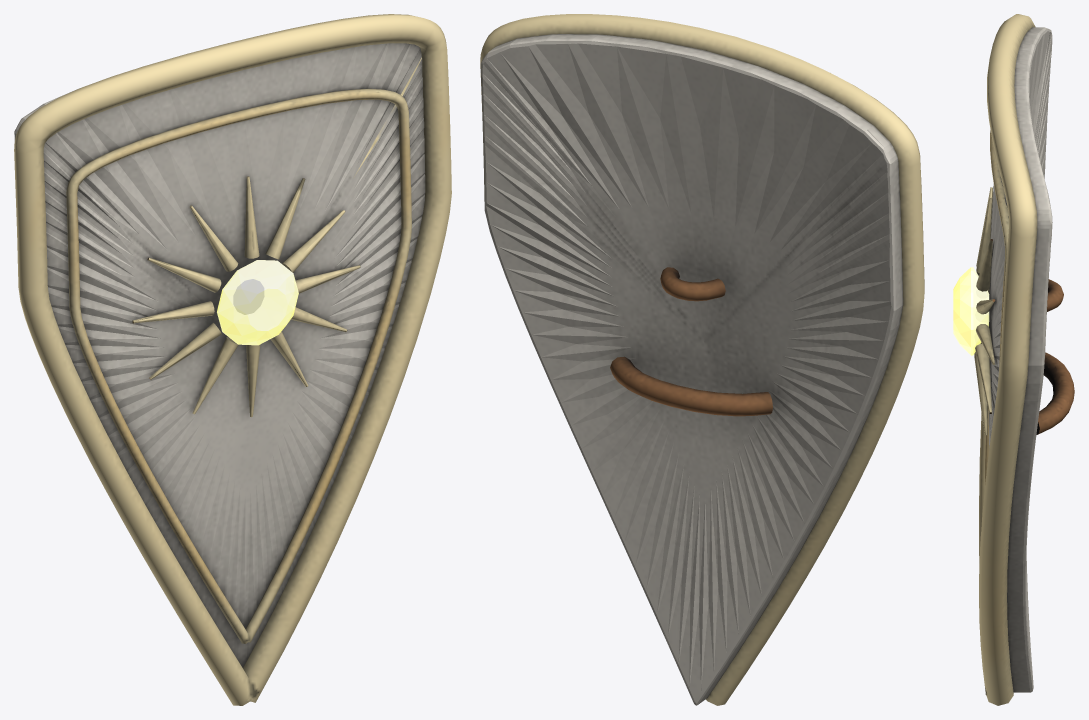
The model's file is arma_escudo_acropole.glb.
3 renders of one model, left to right at view 1: azimuth 30°, elevation 25°; view 2: azimuth 150°, elevation 25°; view 3: azimuth 270°, elevation 25°, orthographic. The views are drawn at different scales.
Parts seen in each view (by area): view 1: arma_escudo_acropole, sol; view 2: arma_escudo_acropole; view 3: arma_escudo_acropole, sol.
Boxes of the visible parts, x1,y1,x2,y2 form: arma_escudo_acropole: (14, 14, 451, 705); sol: (217, 260, 298, 345); arma_escudo_acropole: (480, 14, 924, 705); arma_escudo_acropole: (974, 14, 1074, 705); sol: (953, 267, 989, 355).
Size of the model in its own units: 0.5319 by 0.7793 by 0.1368.
Materials: 2 (1 with a texture image).
